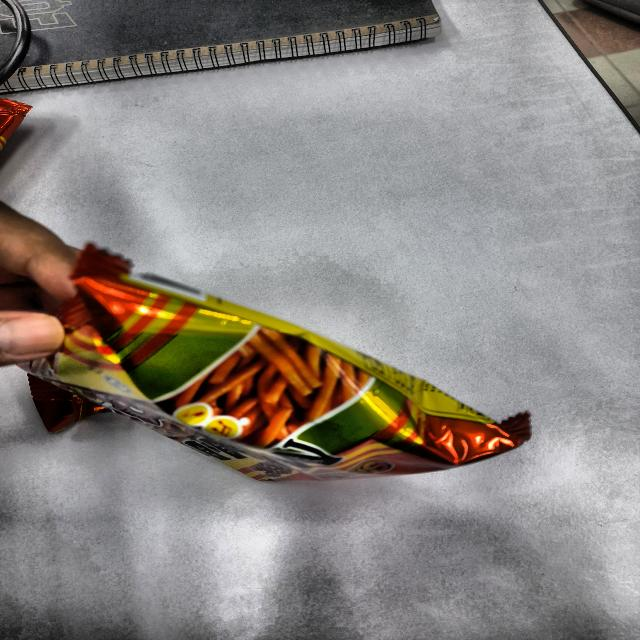Plastic: (58, 227, 536, 504)
